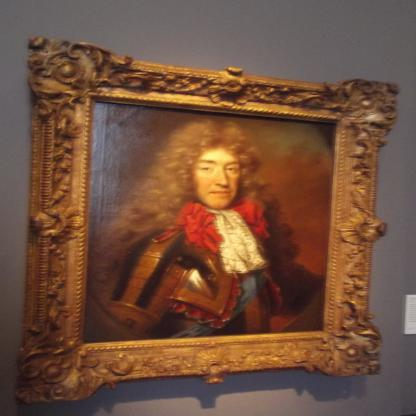Picture-frame: (18, 41, 397, 384)
